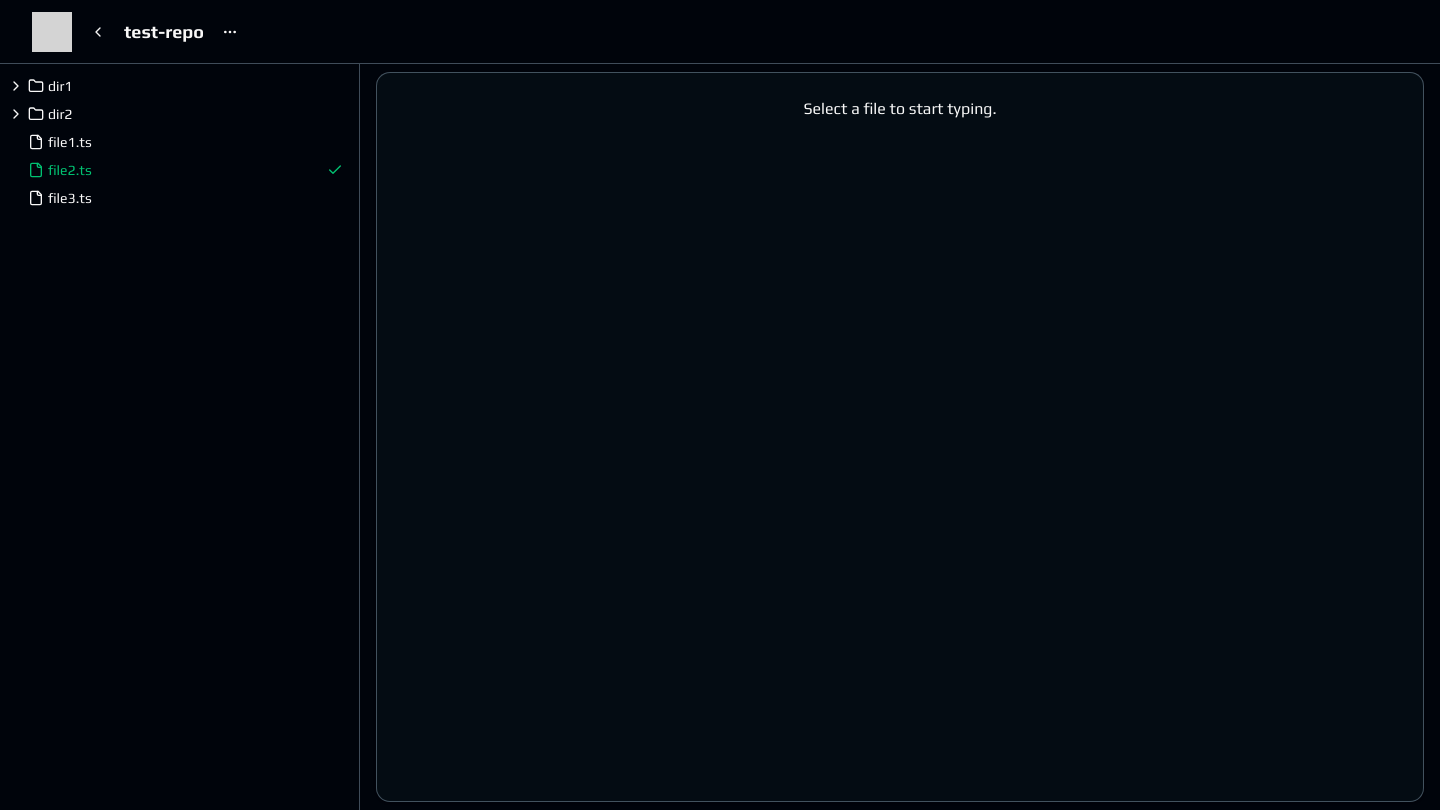
Scenario: RepositoryDetailPage › when directory is clicked › renders children of directory
Click the button "dir1" at (16, 86), box top-left (8, 72), bottom-right (351, 100)
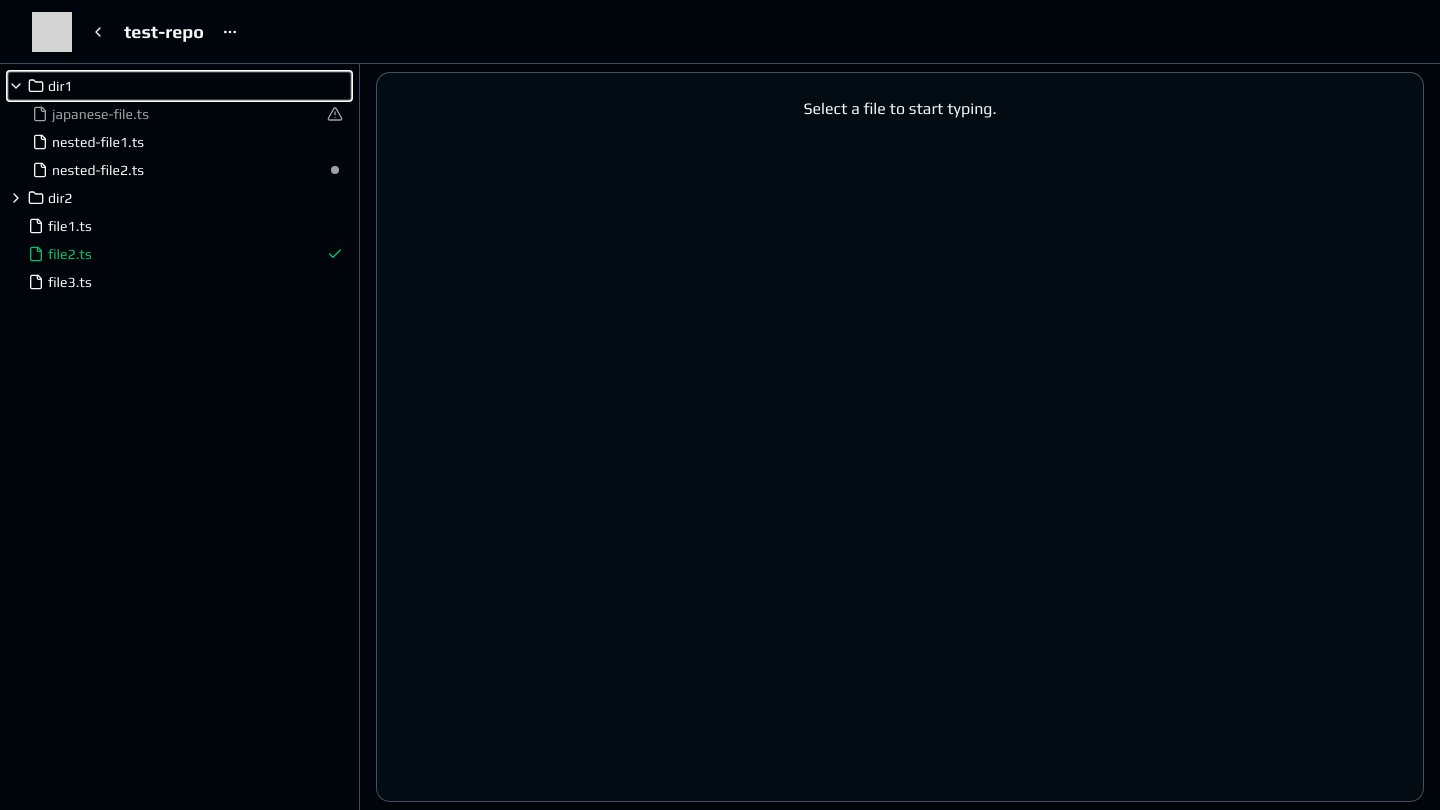
Result: the button "nested-file1.ts" is shown at top-left (12, 128), bottom-right (351, 156)
Result: the button "nested-file2.ts" is shown at top-left (12, 156), bottom-right (351, 184)
